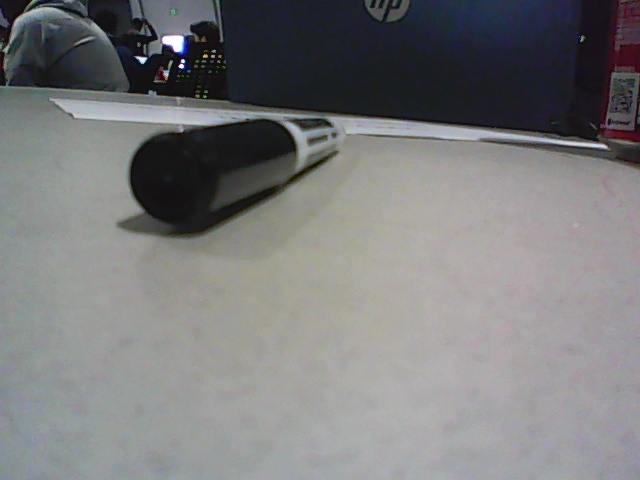marker: (130, 115, 347, 228)
